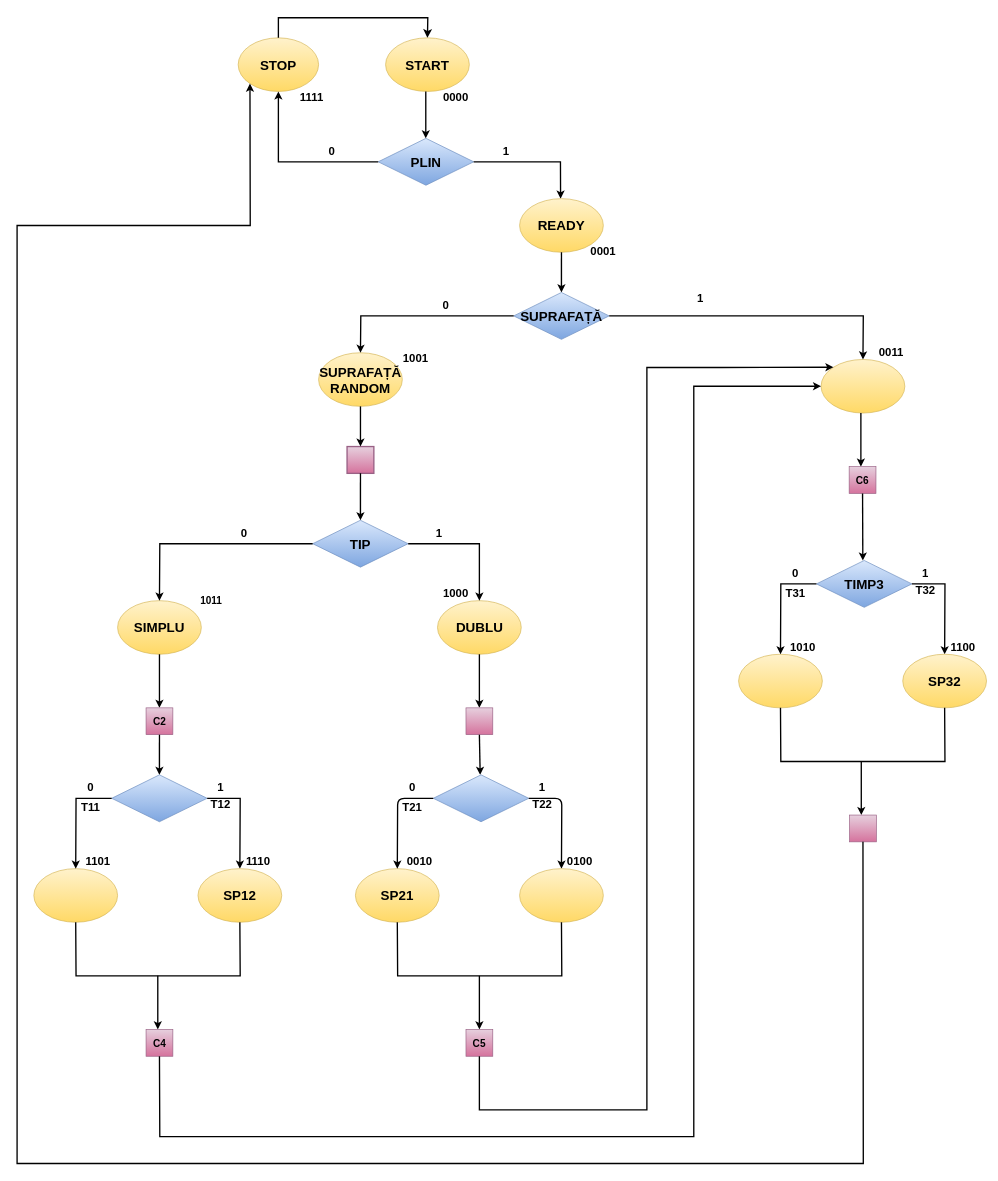
Some shapes in this 998 by 1181 pixel diagram are drawn without their labels. Each missing label, with the centre of its shape:
C1: the point at 360,460
C3: the point at 479,721
C7: the point at 862,828
PERETE: the point at 862,386
SP11: the point at 75,895
SP22: the point at 561,895
SP31: the point at 780,681
TIMP1: the point at 159,798
TIMP2: the point at 481,798
